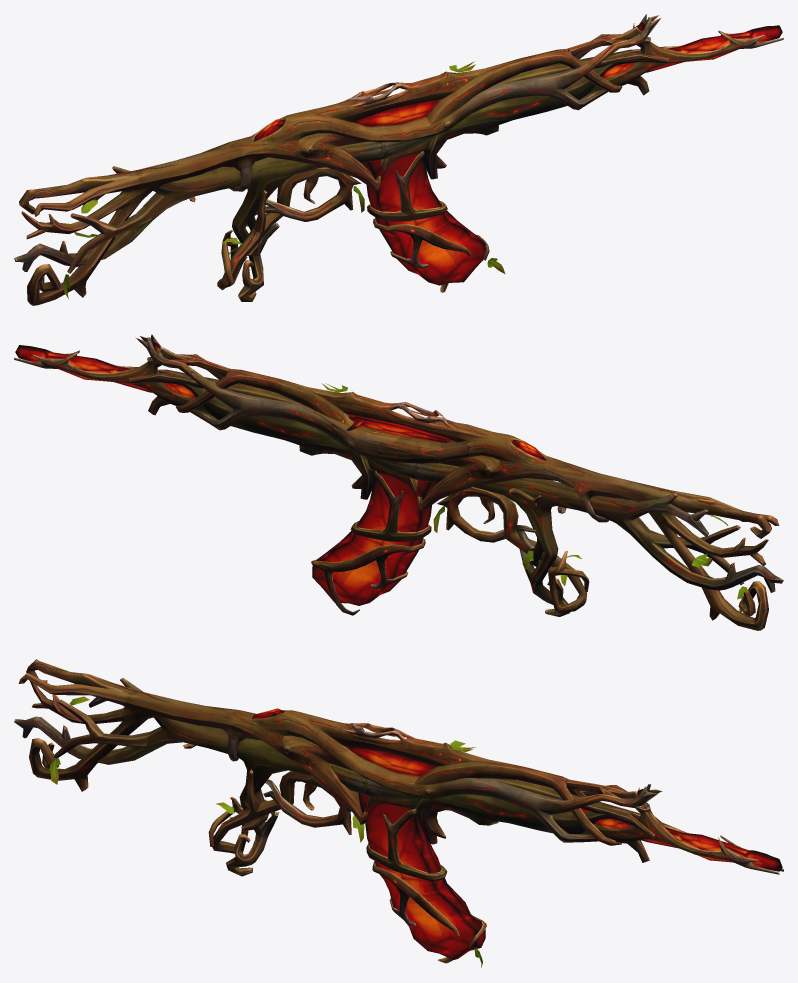
File: vandal.glb
3 renders of one model, top to bottom at view 1: azimuth 30°, elevation 25°; view 2: azimuth 150°, elevation 25°; view 3: azimuth 330°, elevation 25°, orthographic.
Visible parts, largest first — view 1: Gaia-Vandal-Orange-Main_1, Gaia-Vandal-Orange-Main-Mag_0; view 2: Gaia-Vandal-Orange-Main_1, Gaia-Vandal-Orange-Main-Mag_0; view 3: Gaia-Vandal-Orange-Main_1, Gaia-Vandal-Orange-Main-Mag_0.
Boxes of the visible parts, x1,y1,x2,y2 form: Gaia-Vandal-Orange-Main_1: [14, 14, 783, 305]; Gaia-Vandal-Orange-Main-Mag_0: [362, 151, 505, 292]; Gaia-Vandal-Orange-Main_1: [14, 334, 783, 630]; Gaia-Vandal-Orange-Main-Mag_0: [311, 470, 436, 615]; Gaia-Vandal-Orange-Main_1: [14, 659, 783, 876]; Gaia-Vandal-Orange-Main-Mag_0: [358, 793, 486, 967].
Bounding box in the file's own units: 1.32 × 0.375 × 0.0841.
Materials: 2 (2 with a texture image).
